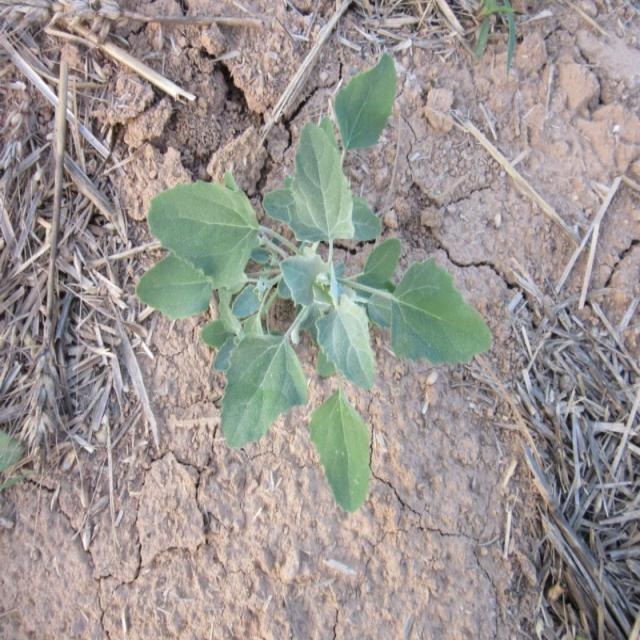ca: (133, 59, 397, 505)
